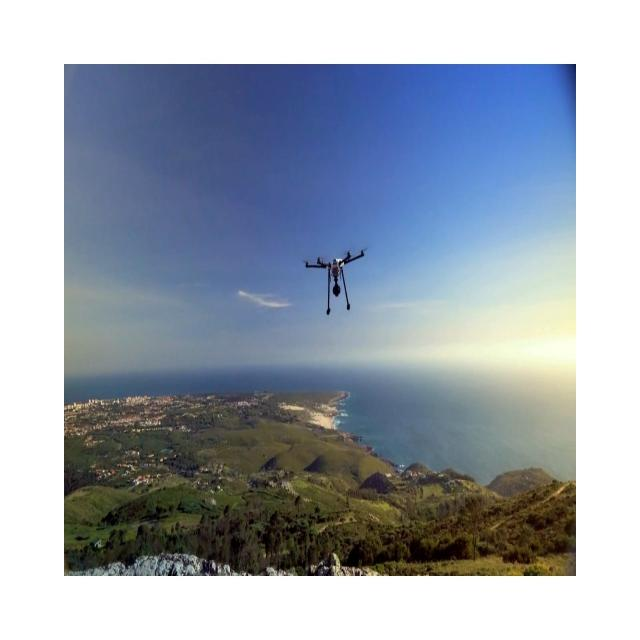drone: (304, 247, 368, 315)
